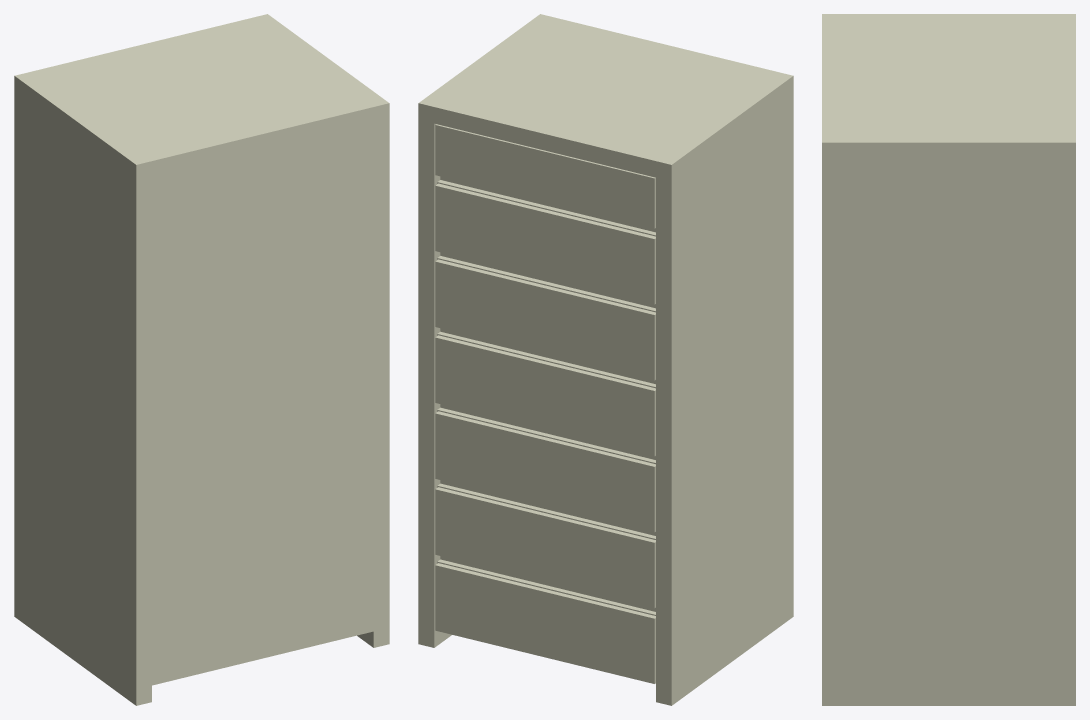
3 views of the same model, side by side, from view 1: azimuth 30°, elevation 25°; view 2: azimuth 150°, elevation 25°; view 3: azimuth 270°, elevation 25° (orthographic). The views are drawn at different scales.
Visible parts, largest first — view 1: mesh1_mesh1-geometry; view 2: mesh1_mesh1-geometry; view 3: mesh1_mesh1-geometry.
Boxes of the visible parts, x1,y1,x2,y2 form: mesh1_mesh1-geometry: (14,14,389,705); mesh1_mesh1-geometry: (418,14,793,705); mesh1_mesh1-geometry: (822,14,1075,705).
Bounding box in the file's own units: 0.413 × 0.8432 × 0.3442.
